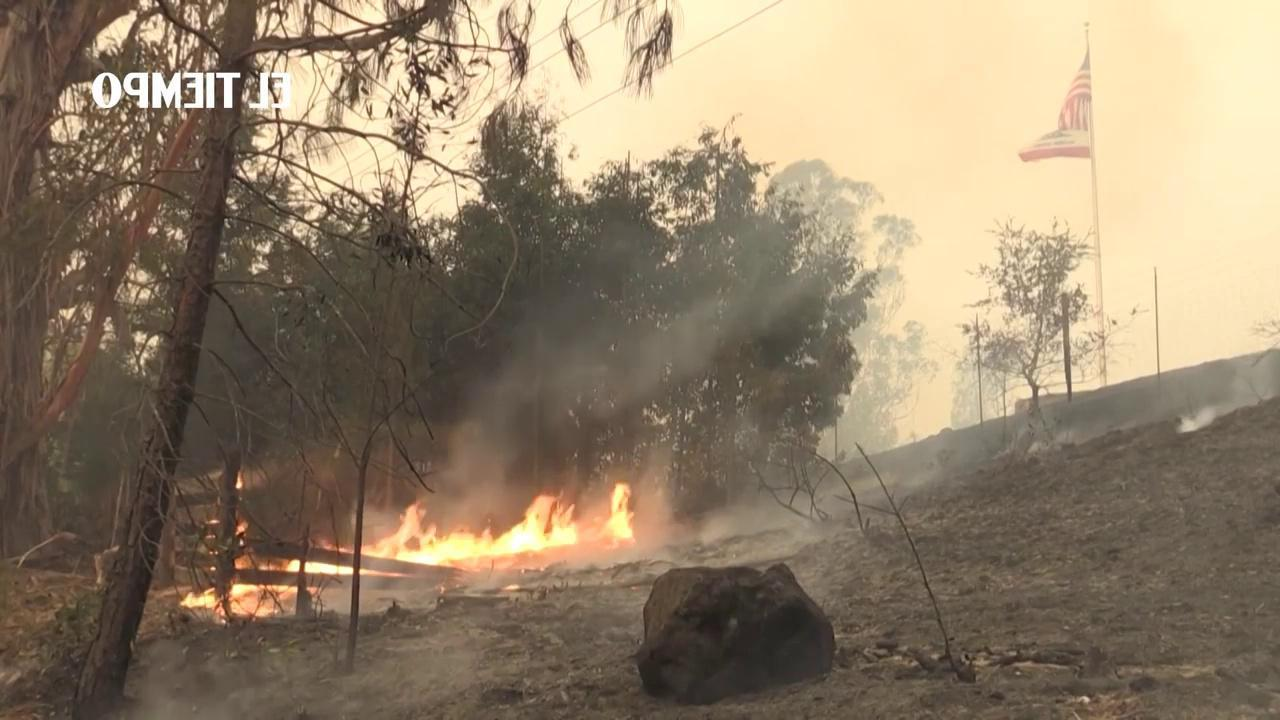Fire: (365, 483, 638, 562), (183, 584, 293, 623)
